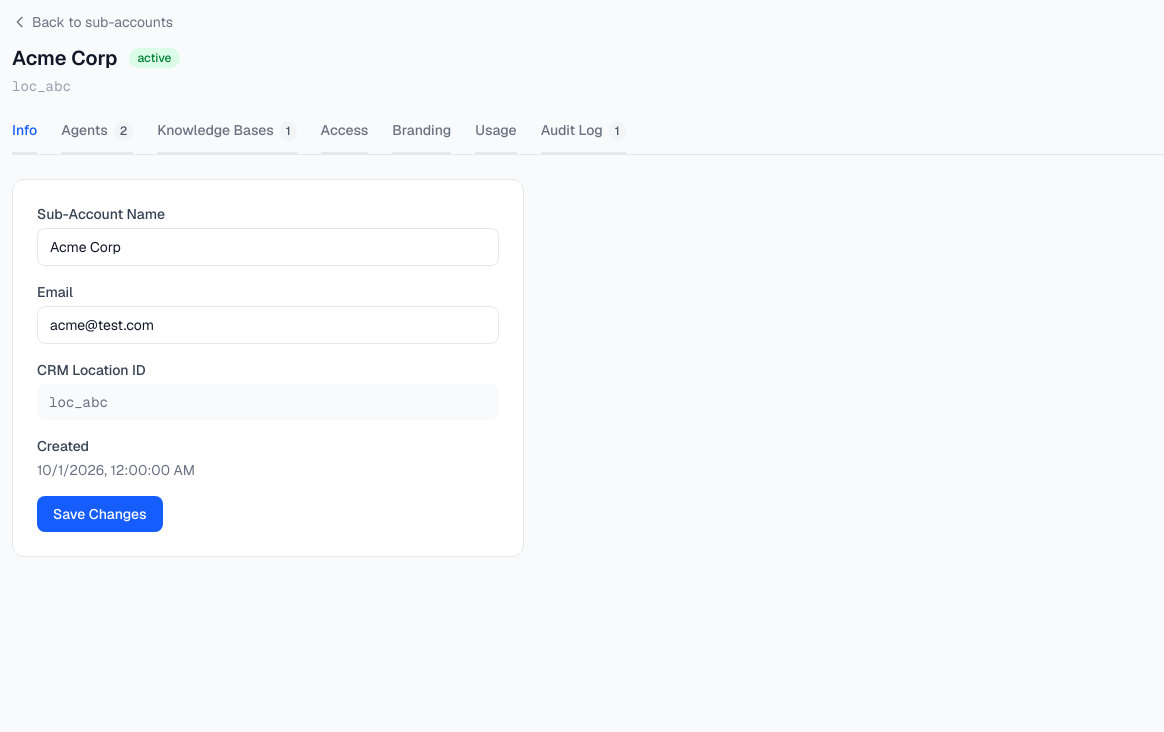
TenantDetail › switches to agents tab and shows agents
Step 1. Click the button "Agents2" → (97, 137), box [61,120,133,154]
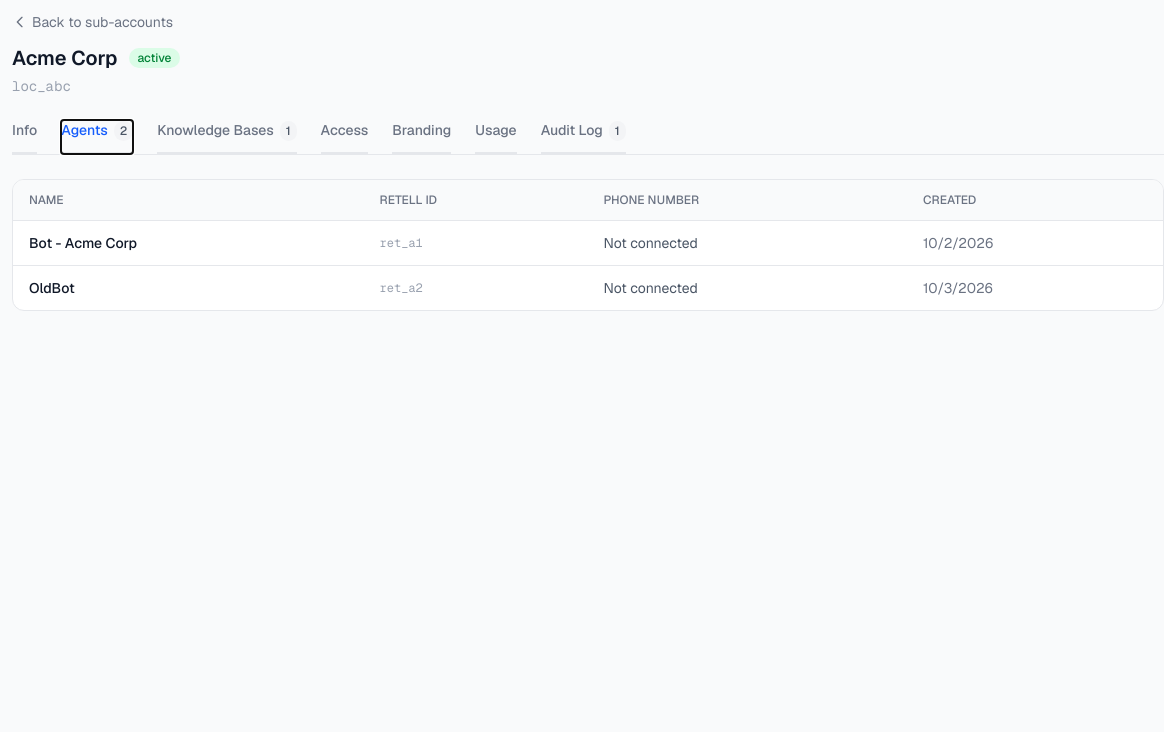
Now the text "Bot - Acme Corp" is shown, box [13,220,364,266]
Now the text "OldBot" is shown, box [13,266,364,310]
